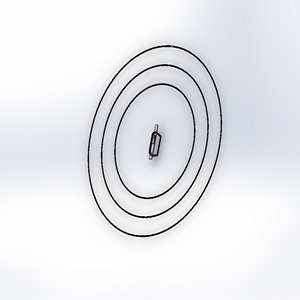circle: (73, 40, 229, 243)
submarine: (140, 117, 169, 171)
